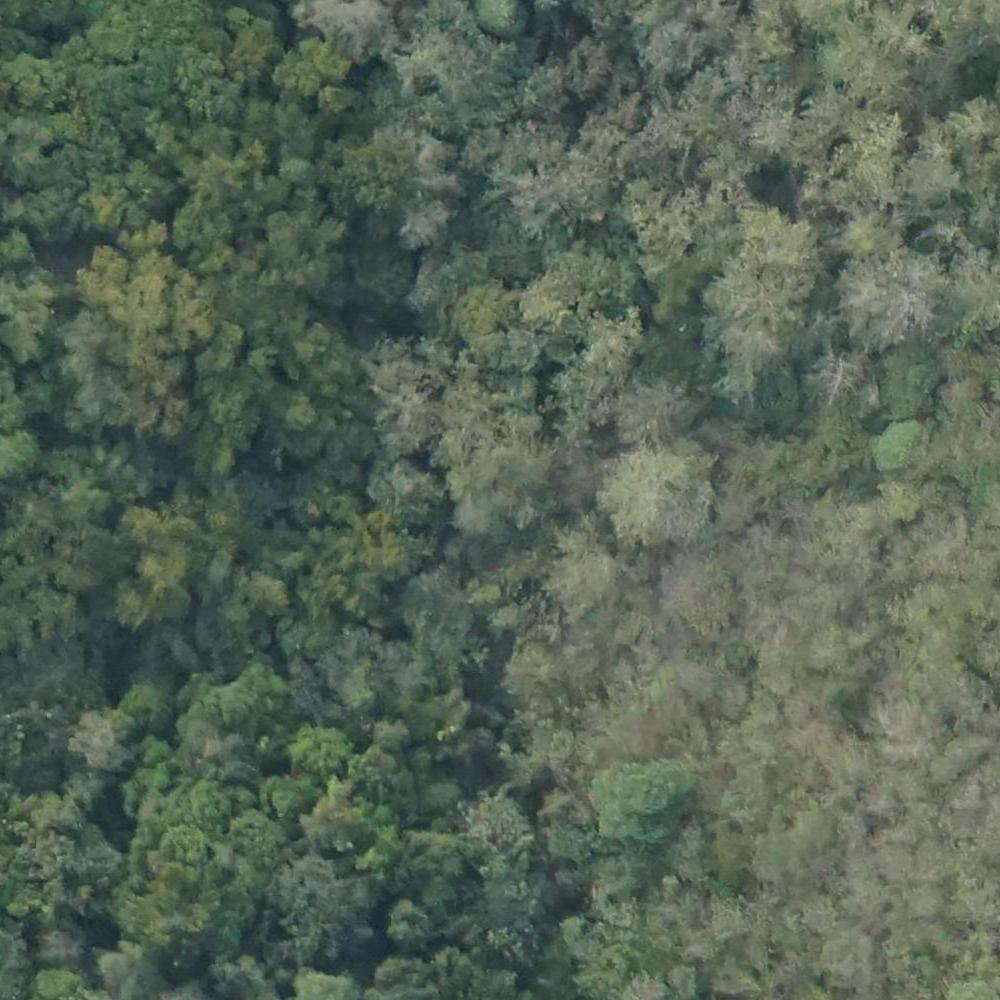tree: (846, 256, 982, 361), (621, 449, 720, 537), (590, 753, 695, 833), (544, 531, 631, 624), (615, 386, 700, 456), (172, 45, 243, 123), (671, 554, 740, 629), (401, 577, 472, 649), (889, 359, 960, 426), (374, 374, 443, 442), (582, 311, 646, 378), (374, 459, 438, 526), (68, 702, 131, 766), (276, 33, 345, 90), (303, 789, 363, 848), (873, 417, 932, 476), (111, 277, 170, 332), (291, 723, 360, 770), (395, 199, 446, 251), (130, 531, 174, 587), (723, 641, 763, 678), (318, 78, 361, 111), (848, 216, 890, 243), (280, 159, 309, 185)
